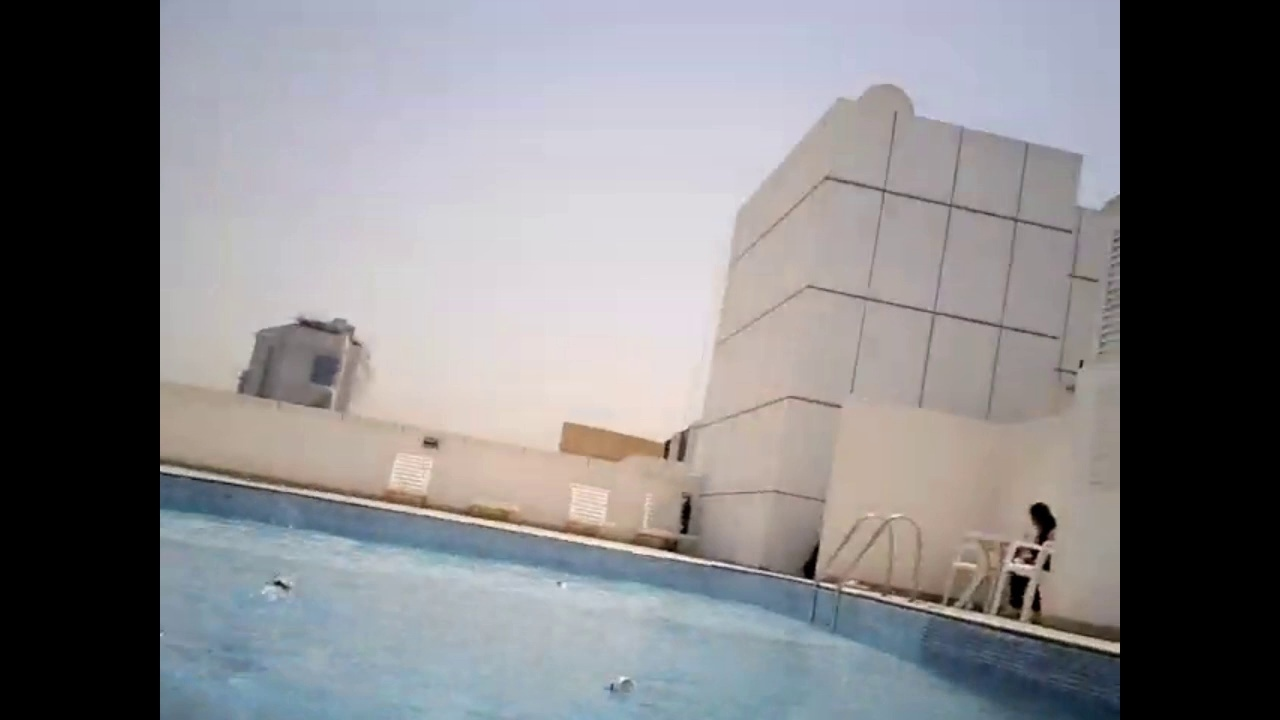debris: (594, 671, 642, 714), (264, 574, 298, 599), (554, 579, 570, 591)
